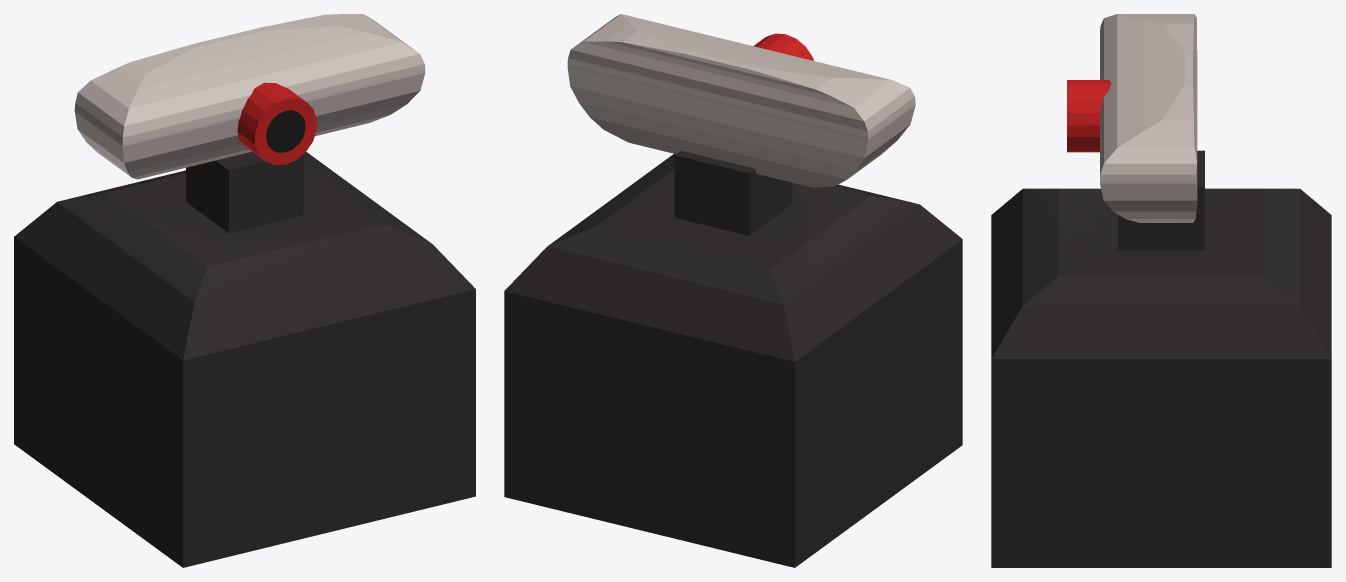
File: estatua_olho.fbx
The picture shows the model from 3 angles, left to right: view 1: azimuth 30°, elevation 25°; view 2: azimuth 150°, elevation 25°; view 3: azimuth 270°, elevation 25°; orthographic projection.
Parts seen in each view (by area): view 1: estatua_olho; view 2: estatua_olho; view 3: estatua_olho.
Part boxes in pixels (box(x1,y1,x2,y2)): estatua_olho: box(14, 14, 475, 567); estatua_olho: box(504, 14, 962, 567); estatua_olho: box(991, 14, 1331, 567).
Size of the model in its own units: 116 by 156 by 112.
